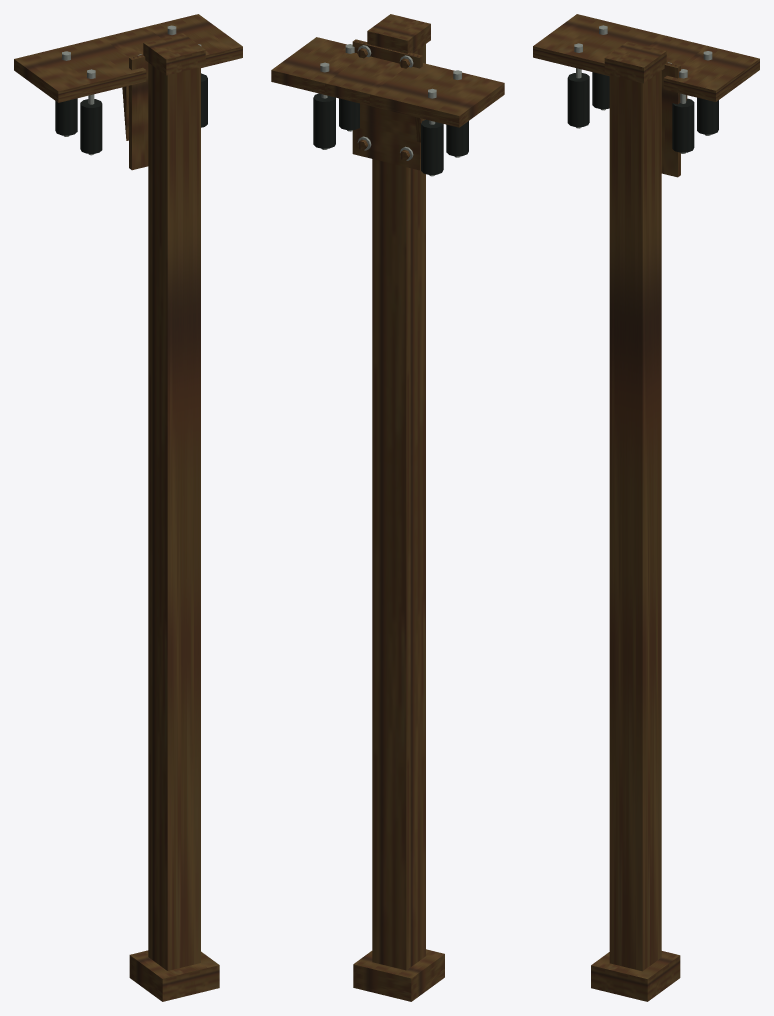
Rendered from SG_Wood_GuidePost.glb.
3 views of the same model, side by side, from view 1: azimuth 30°, elevation 25°; view 2: azimuth 150°, elevation 25°; view 3: azimuth 330°, elevation 25° (orthographic). The views are drawn at different scales.
Parts seen in each view (by area): view 1: SG_Wood_2_high_SG_Post_Right; view 2: SG_Wood_2_high_SG_Post_Right; view 3: SG_Wood_2_high_SG_Post_Right.
Part boxes in pixels (bbox=[...]): SG_Wood_2_high_SG_Post_Right: bbox=[14, 14, 242, 1001]; SG_Wood_2_high_SG_Post_Right: bbox=[271, 14, 504, 1001]; SG_Wood_2_high_SG_Post_Right: bbox=[533, 14, 759, 1001].
Size of the model in its own units: 0.42 by 2.04 by 0.265.
Materials: 1 (1 with a texture image).
